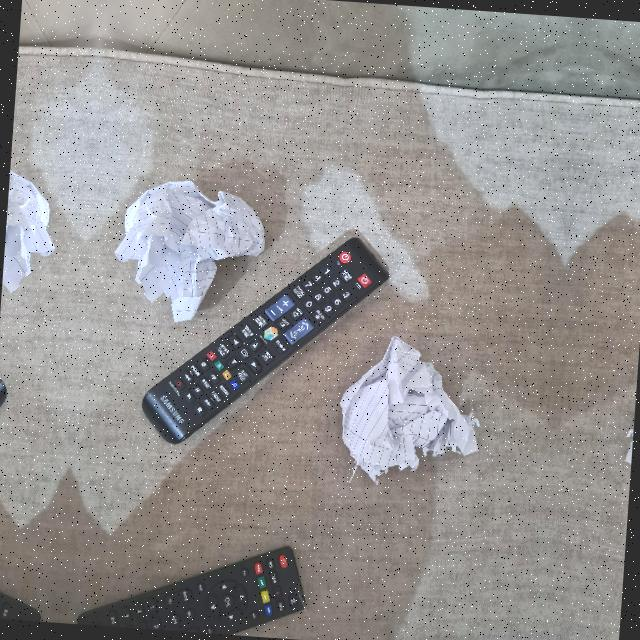paper: (100, 174, 278, 319), (325, 332, 483, 486), (0, 167, 70, 304), (624, 352, 638, 497)
